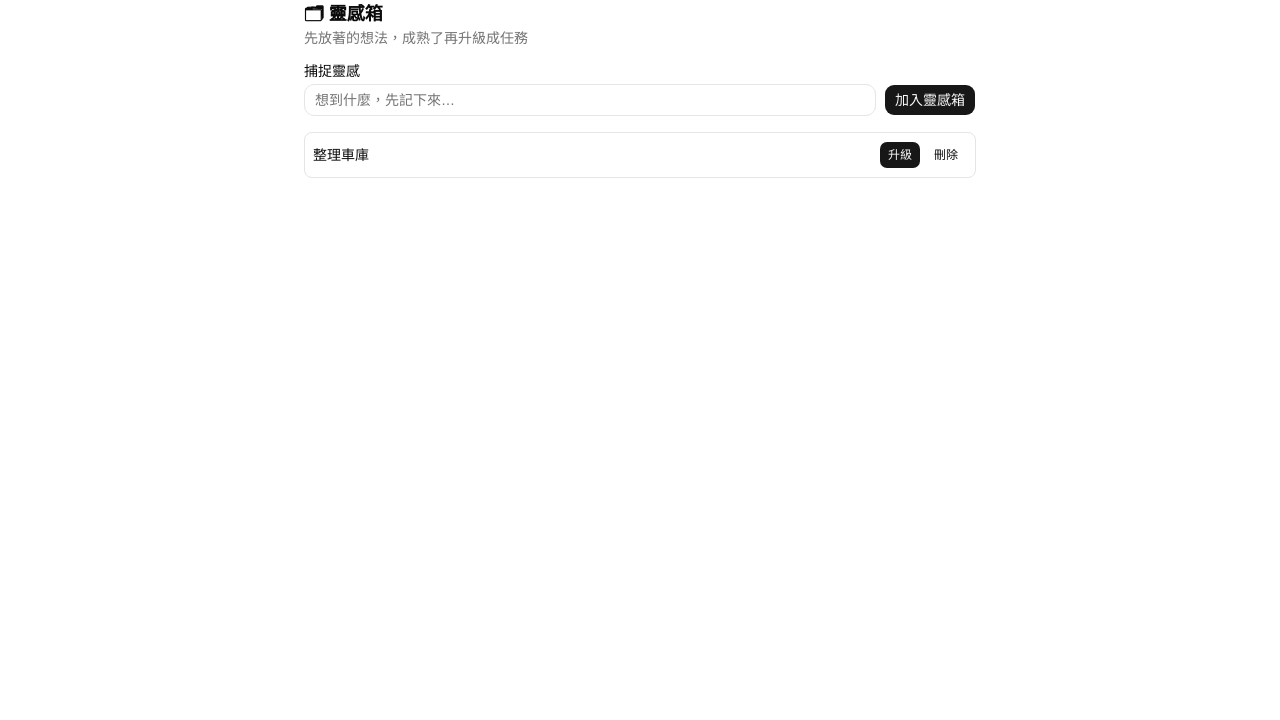
it: BacklogPage › lists backlog items and opens promote dialog
This screenshot has width=1280, height=720.
Expected: the text "整理車庫" is shown, top-left (313, 145), bottom-right (369, 165)
Click the button with aria-label "升級 整理車庫" at (900, 155), box top-left (879, 141), bottom-right (921, 169)
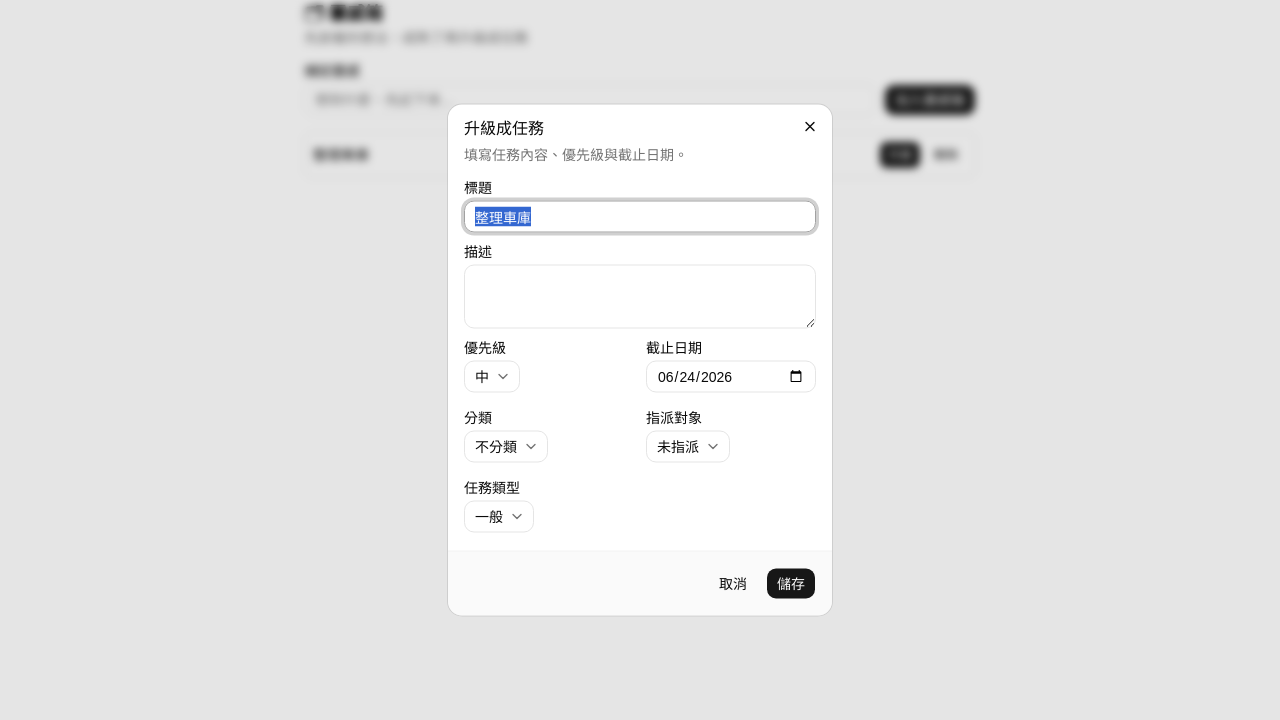
Result: the heading "升級成任務" is shown at top-left (464, 120), bottom-right (544, 136)
